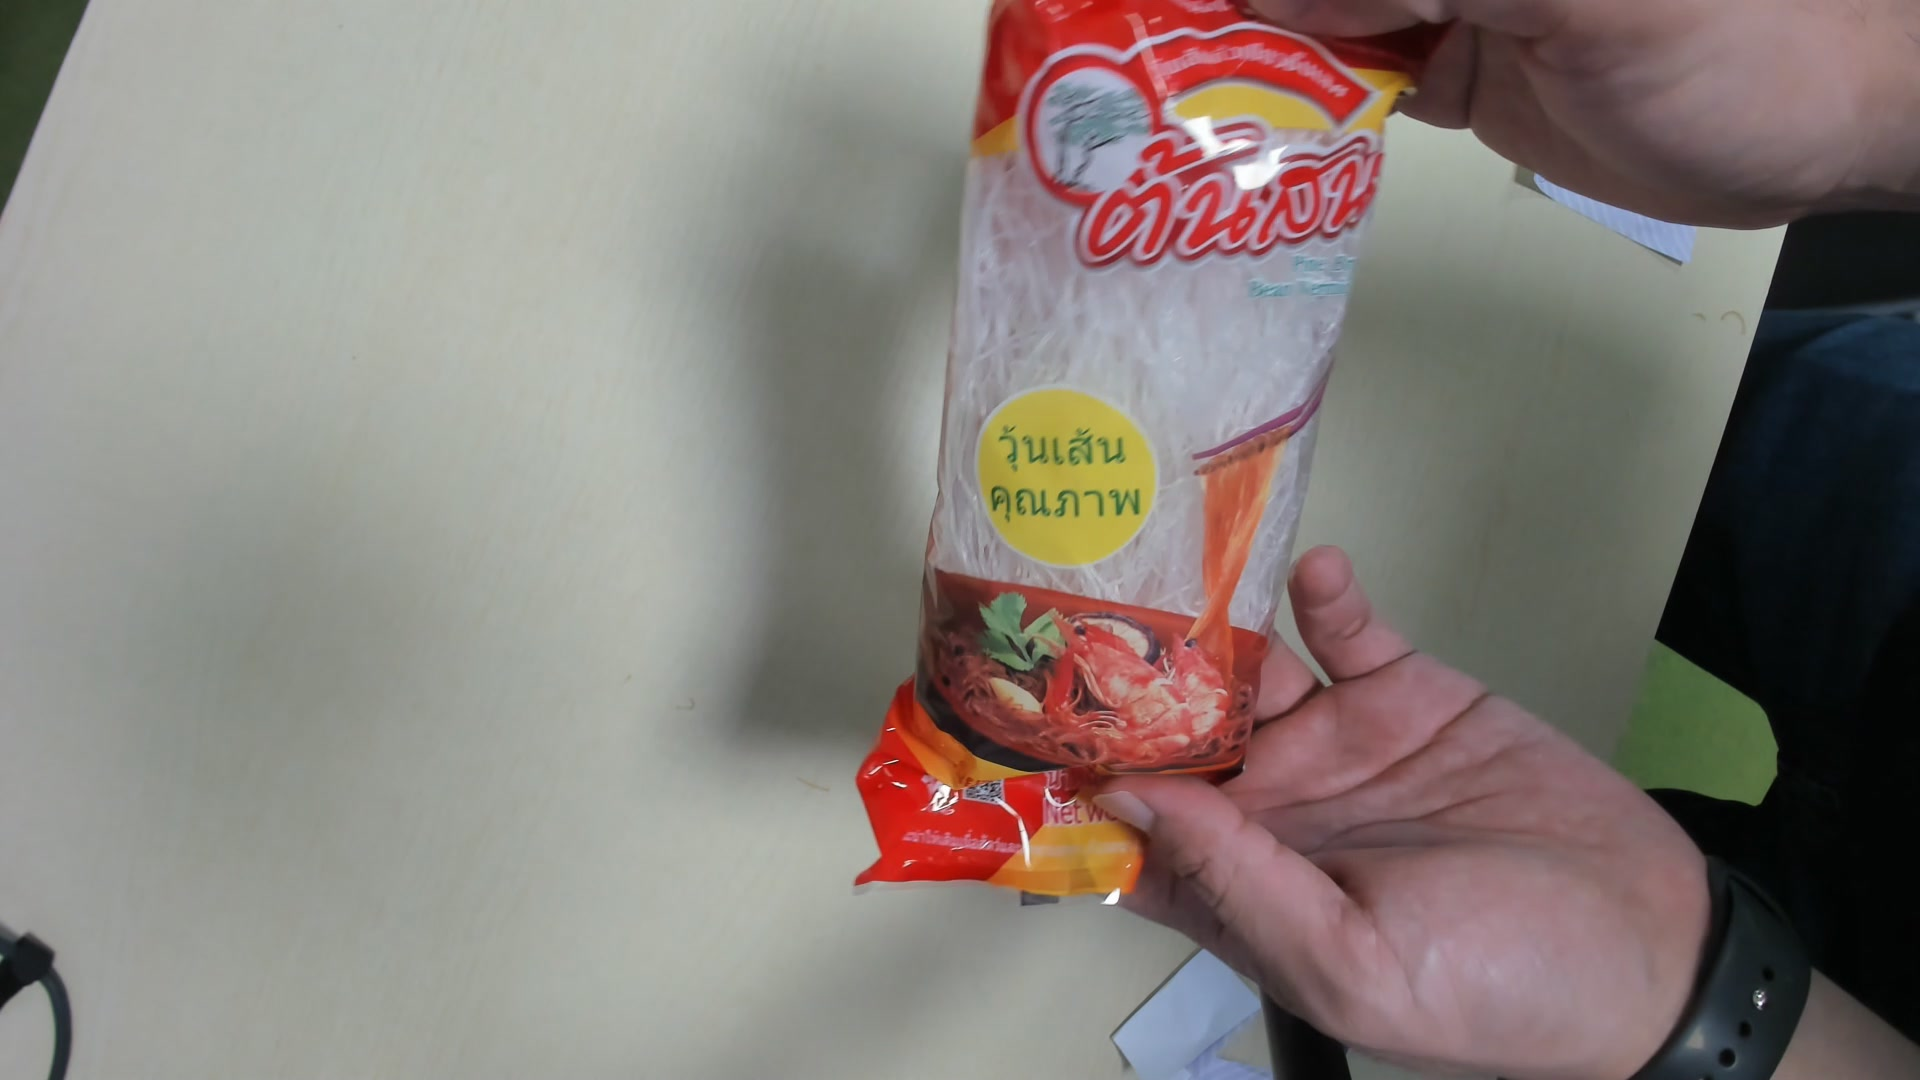BeeHoonVermicelli_0-99g_Halal_NonHealthy: (855, 7, 1404, 899)
